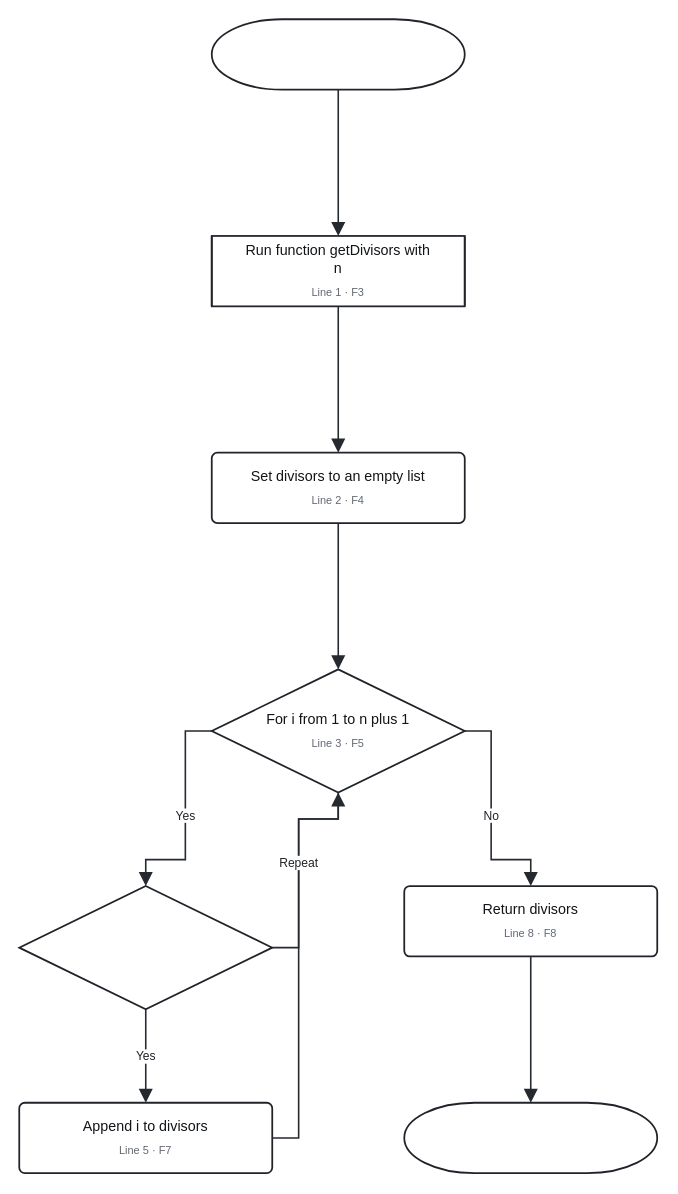
Image size: 678x1194. Some labels were removed from this diagram. Here are the shapes that lost their labels. From the top down, the box of each, then its label:
(210, 18, 465, 90): Start Line 1 · F1
(18, 885, 273, 1010): N modulo i is equal to 0? Line 4 · F6
(403, 1101, 658, 1173): End Line 1 · F2
